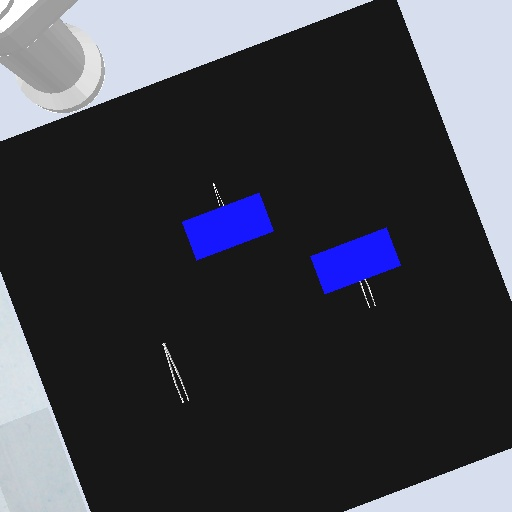pinza: (161, 339, 191, 407), (358, 275, 377, 311), (209, 179, 226, 211)
